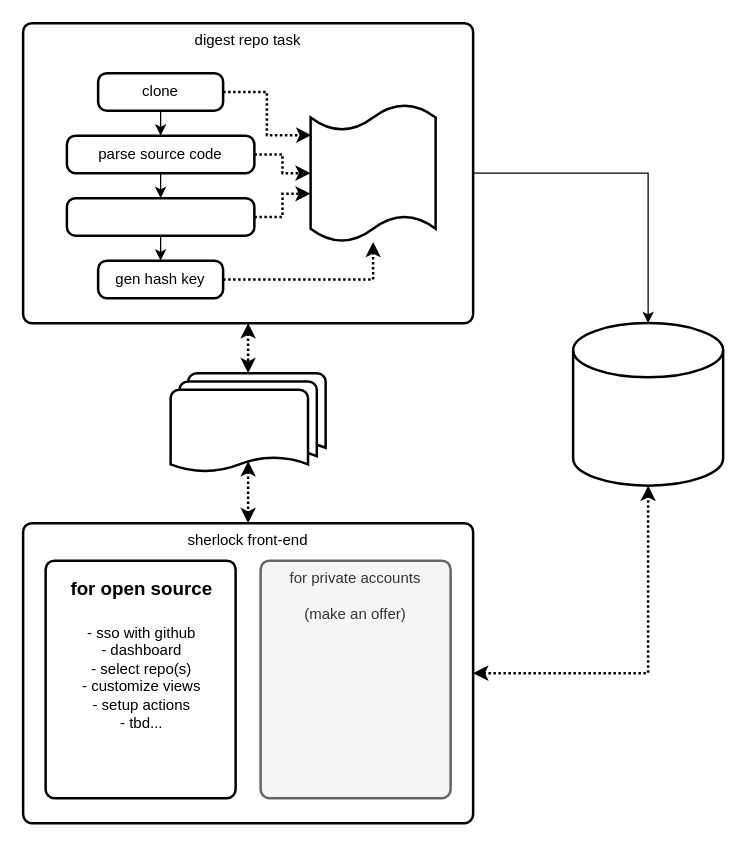
This 745x845 diagram has some shape labels left out. The box of each missing label's shape, as (x1, y1, x2, y2) in pixels:
message queue: (169, 371, 326, 474)
parse history: (65, 196, 255, 236)
secured source metadata db --: (571, 321, 724, 486)
source metadata: (309, 102, 436, 242)
